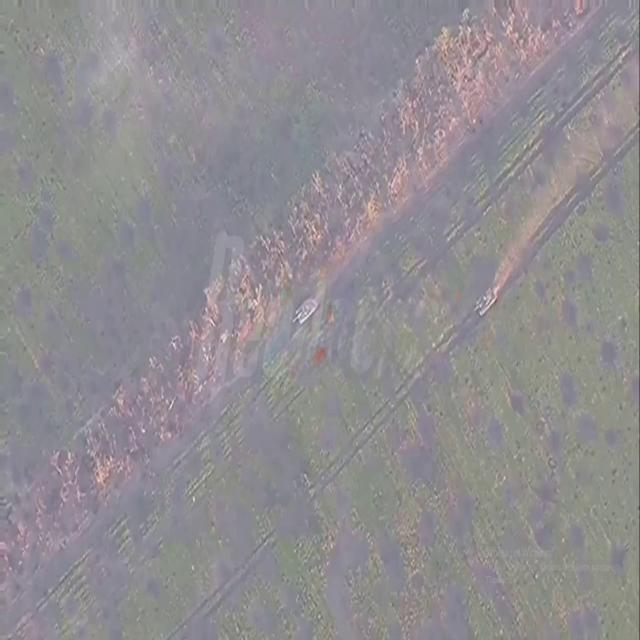MBT: (292, 294, 323, 329), (474, 285, 499, 320)
